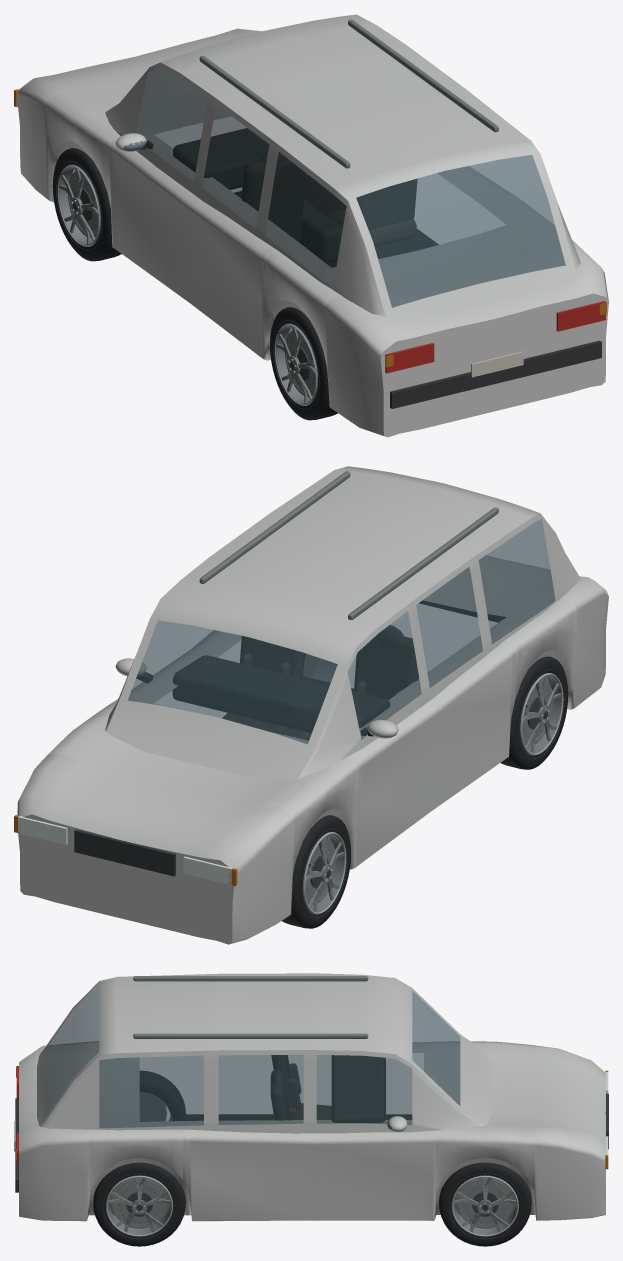
File: summit.glb
3 views of the same model, one above another, from view 1: azimuth 30°, elevation 25°; view 2: azimuth 150°, elevation 25°; view 3: azimuth 270°, elevation 25° (orthographic). The views are drawn at different scales.
Visible parts, largest first — view 1: paint, glass, trim, wheelSurface (×2), brake; view 2: paint, glass, trim, wheelSurface (×3), head; view 3: paint, glass, wheelSurface (×3), trim.
Boxes of the visible parts, bbox=[...] form: paint: bbox=[17, 14, 608, 437]; glass: bbox=[124, 68, 565, 307]; trim: bbox=[140, 19, 601, 408]; wheelSurface (×2): bbox=[52, 148, 337, 420]; brake: bbox=[385, 301, 605, 373]; paint: bbox=[17, 466, 608, 944]; glass: bbox=[128, 519, 555, 744]; trim: bbox=[74, 471, 505, 876]; wheelSurface (×3): bbox=[282, 653, 568, 928]; head: bbox=[18, 816, 232, 885]; paint: bbox=[19, 973, 605, 1221]; glass: bbox=[44, 984, 460, 1129]; wheelSurface (×3): bbox=[93, 1071, 531, 1246]; trim: bbox=[14, 976, 608, 1192].
Bounding box in the file's own units: 2.17 × 1.81 × 5.01.
